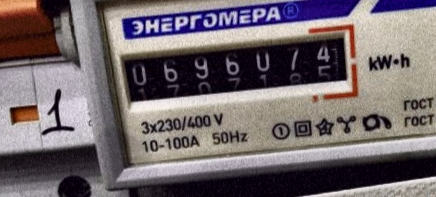0: (128, 60, 149, 86), (254, 45, 272, 72)
4: (314, 38, 333, 64)
5: (317, 62, 333, 82)
6: (160, 55, 182, 83), (222, 50, 241, 75)
7: (283, 43, 303, 71)
9: (190, 53, 212, 79)
screen: (108, 18, 366, 122)
